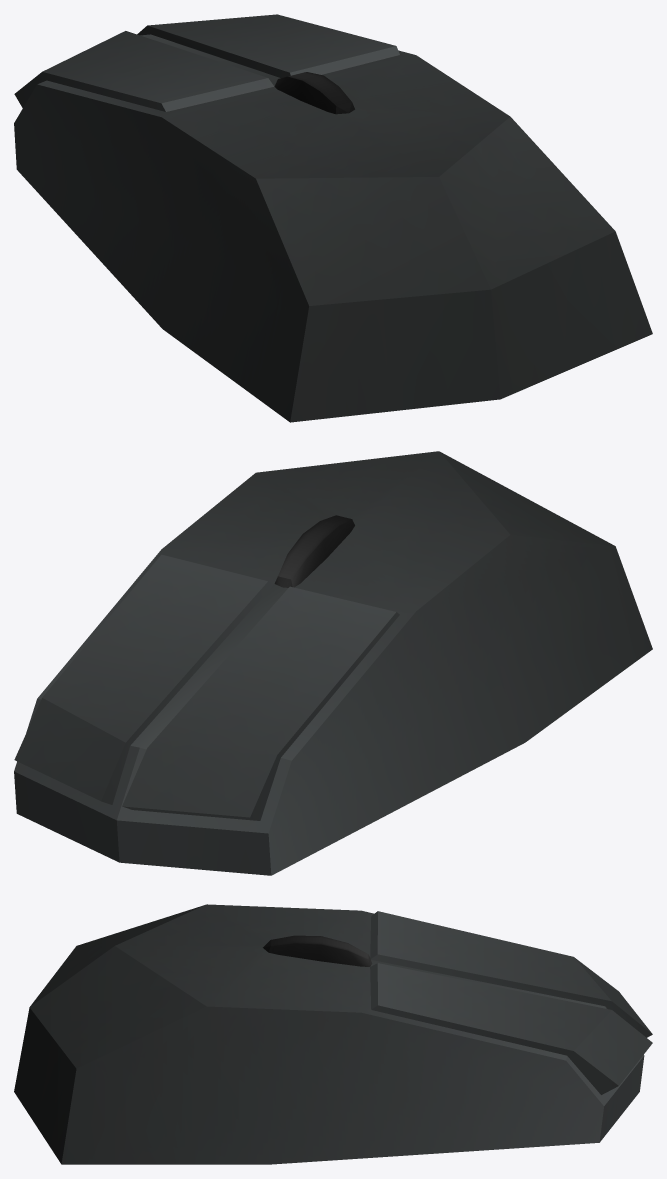
File: ComputerGamingMouse.fbx
The picture shows the model from 3 angles, top to bottom: view 1: azimuth 30°, elevation 25°; view 2: azimuth 150°, elevation 25°; view 3: azimuth 270°, elevation 25°; orthographic projection. The views are drawn at different scales.
Visible parts, largest first — view 1: ComputerGamingMouse; view 2: ComputerGamingMouse; view 3: ComputerGamingMouse.
Boxes of the visible parts, <box> form: ComputerGamingMouse: <box>14,14,652,422</box>; ComputerGamingMouse: <box>14,451,652,875</box>; ComputerGamingMouse: <box>14,904,652,1164</box>.
Size of the model in its own units: 7.36 by 3.59 by 13.66.
